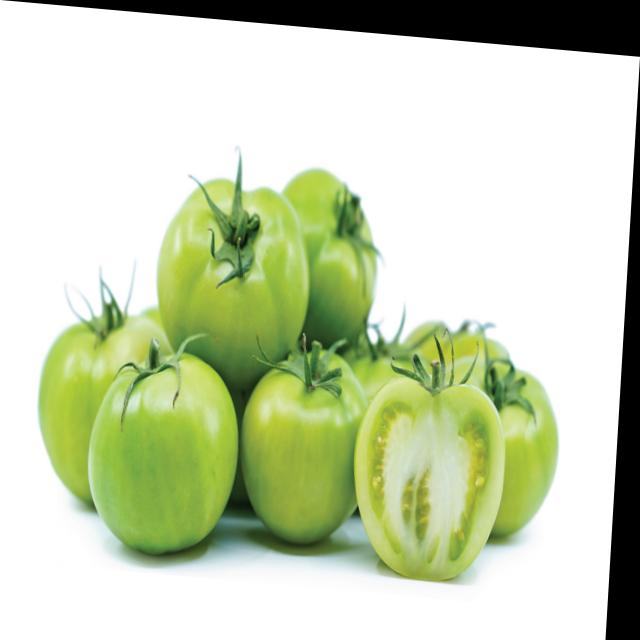yesil: (244, 286, 558, 570), (28, 286, 249, 572), (148, 153, 316, 368)
